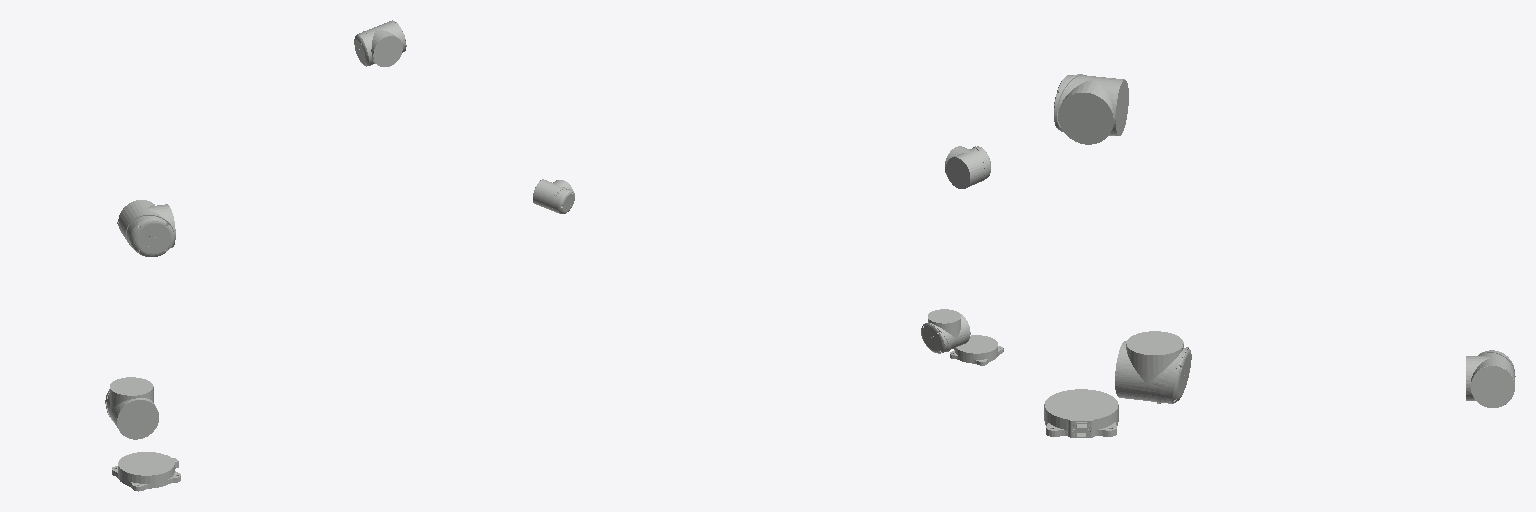
URDF robot description (realll_urdf):
<?xml version="1.0" encoding="utf-8"?>
<!-- This URDF was automatically created by SolidWorks to URDF Exporter! Originally created by [author] ([email redacted]) 
     Commit Version: 1.6.0-4-g7f85cfe  Build Version: 1.6.7995.38578
     For more information, please see http://wiki.ros.org/sw_urdf_exporter -->
<robot
  name="realll_urdf">
  <link
    name="base_link">
    <inertial>
      <origin
        xyz="0.00047472 6.9315E-06 0.018436"
        rpy="0 0 0" />
      <mass
        value="0.70951" />
      <inertia
        ixx="0.0011478"
        ixy="-4.6822E-08"
        ixz="-2.9441E-07"
        iyy="0.0011755"
        iyz="7.868E-08"
        izz="0.0021505" />
    </inertial>
    <visual>
      <origin
        xyz="0 0 0"
        rpy="0 0 0" />
      <geometry>
        <mesh
          filename="package://realll_urdf/meshes/base_link.STL" />
      </geometry>
      <material
        name="">
        <color
          rgba="0.75686 0.76863 0.75294 1" />
      </material>
    </visual>
    <collision>
      <origin
        xyz="0 0 0"
        rpy="0 0 0" />
      <geometry>
        <mesh
          filename="package://realll_urdf/meshes/base_link.STL" />
      </geometry>
    </collision>
  </link>
  <link
    name="Link_1">
    <inertial>
      <origin
        xyz="0.0023542 0.0085726 0.12447"
        rpy="0 0 0" />
      <mass
        value="3.4311" />
      <inertia
        ixx="0.011117"
        ixy="-0.0001688"
        ixz="-0.0002995"
        iyy="0.010549"
        iyz="-0.0010909"
        izz="0.010872" />
    </inertial>
    <visual>
      <origin
        xyz="0 0 0"
        rpy="0 0 0" />
      <geometry>
        <mesh
          filename="package://realll_urdf/meshes/Link_1.STL" />
      </geometry>
      <material
        name="">
        <color
          rgba="0.75686 0.76863 0.75294 1" />
      </material>
    </visual>
    <collision>
      <origin
        xyz="0 0 0"
        rpy="0 0 0" />
      <geometry>
        <mesh
          filename="package://realll_urdf/meshes/Link_1.STL" />
      </geometry>
    </collision>
  </link>
  <joint
    name="Joint_1"
    type="revolute">
    <origin
      xyz="0 0 0"
      rpy="0 0 0" />
    <parent
      link="base_link" />
    <child
      link="Link_1" />
    <axis
      xyz="0 0 1" />
    <limit
      lower="0"
      upper="3.142"
      effort="300"
      velocity="3" />
  </joint>
  <link
    name="Link_2">
    <inertial>
      <origin
        xyz="4.1795E-07 -0.076521 0.14802"
        rpy="0 0 0" />
      <mass
        value="1.5487" />
      <inertia
        ixx="0.002778"
        ixy="-4.2325E-09"
        ixz="2.0685E-08"
        iyy="0.0026285"
        iyz="-0.00038502"
        izz="0.00292" />
    </inertial>
    <visual>
      <origin
        xyz="0 0 0"
        rpy="0 0 0" />
      <geometry>
        <mesh
          filename="package://realll_urdf/meshes/Link_2.STL" />
      </geometry>
      <material
        name="">
        <color
          rgba="0.75686 0.76863 0.75294 1" />
      </material>
    </visual>
    <collision>
      <origin
        xyz="0 0 0"
        rpy="0 0 0" />
      <geometry>
        <mesh
          filename="package://realll_urdf/meshes/Link_2.STL" />
      </geometry>
    </collision>
  </link>
  <joint
    name="Joint_2"
    type="revolute">
    <origin
      xyz="0.00081755 0.002978 0.21171"
      rpy="1.5708 0 2.8737" />
    <parent
      link="Link_1" />
    <child
      link="Link_2" />
    <axis
      xyz="0 0 1" />
    <limit
      lower="-1.57"
      upper="1.57"
      effort="200"
      velocity="3" />
  </joint>
  <link
    name="Link_3">
    <inertial>
      <origin
        xyz="0.0016204 0.00038775 -0.063393"
        rpy="0 0 0" />
      <mass
        value="1.4714" />
      <inertia
        ixx="0.0023471"
        ixy="3.5886E-09"
        ixz="-0.0003313"
        iyy="0.002487"
        iyz="-2.0842E-08"
        izz="0.0027804" />
    </inertial>
    <visual>
      <origin
        xyz="0 0 0"
        rpy="0 0 0" />
      <geometry>
        <mesh
          filename="package://realll_urdf/meshes/Link_3.STL" />
      </geometry>
      <material
        name="">
        <color
          rgba="0.75686 0.76863 0.75294 1" />
      </material>
    </visual>
    <collision>
      <origin
        xyz="0 0 0"
        rpy="0 0 0" />
      <geometry>
        <mesh
          filename="package://realll_urdf/meshes/Link_3.STL" />
      </geometry>
    </collision>
  </link>
  <joint
    name="Joint_3"
    type="revolute">
    <origin
      xyz="-0.013053 0.4998 -0.04121"
      rpy="-3.1416 -0.034793 3.1416" />
    <parent
      link="Link_2" />
    <child
      link="Link_3" />
    <axis
      xyz="0 0 -1" />
    <limit
      lower="-1.57"
      upper="1.57"
      effort="200"
      velocity="3" />
  </joint>
  <link
    name="Link_4">
    <inertial>
      <origin
        xyz="0.038757 0.0032123 -0.16106"
        rpy="0 0 0" />
      <mass
        value="0.83842" />
      <inertia
        ixx="0.0010339"
        ixy="-3.0338E-05"
        ixz="1.6348E-05"
        iyy="0.0009644"
        iyz="0.00012774"
        izz="0.00096895" />
    </inertial>
    <visual>
      <origin
        xyz="0 0 0"
        rpy="0 0 0" />
      <geometry>
        <mesh
          filename="package://realll_urdf/meshes/Link_4.STL" />
      </geometry>
      <material
        name="">
        <color
          rgba="0.75686 0.76863 0.75294 1" />
      </material>
    </visual>
    <collision>
      <origin
        xyz="0 0 0"
        rpy="0 0 0" />
      <geometry>
        <mesh
          filename="package://realll_urdf/meshes/Link_4.STL" />
      </geometry>
    </collision>
  </link>
  <joint
    name="Joint_4"
    type="revolute">
    <origin
      xyz="0.56474 0.000388 -0.0090716"
      rpy="0 0.23313 0" />
    <parent
      link="Link_3" />
    <child
      link="Link_4" />
    <axis
      xyz="-0.23103 0 0.97295" />
    <limit
      lower="-1.57"
      upper="1.57"
      effort="200"
      velocity="3" />
  </joint>
  <link
    name="Link_5">
    <inertial>
      <origin
        xyz="0.0034039 0.00048525 0.16585"
        rpy="0 0 0" />
      <mass
        value="0.83842" />
      <inertia
        ixx="0.00096592"
        ixy="1.045E-05"
        ixz="-0.00012992"
        iyy="0.0010363"
        iyz="1.8899E-05"
        izz="0.00096507" />
    </inertial>
    <visual>
      <origin
        xyz="0 0 0"
        rpy="0 0 0" />
      <geometry>
        <mesh
          filename="package://realll_urdf/meshes/Link_5.STL" />
      </geometry>
      <material
        name="">
        <color
          rgba="0.75686 0.76863 0.75294 1" />
      </material>
    </visual>
    <collision>
      <origin
        xyz="0 0 0"
        rpy="0 0 0" />
      <geometry>
        <mesh
          filename="package://realll_urdf/meshes/Link_5.STL" />
      </geometry>
    </collision>
  </link>
  <joint
    name="Joint_5"
    type="revolute">
    <origin
      xyz="0.039855 -0.05588 -0.16569"
      rpy="-1.5708 0 0" />
    <parent
      link="Link_4" />
    <child
      link="Link_5" />
    <axis
      xyz="0 0 -1" />
    <limit
      lower="-1.57"
      upper="1.57"
      effort="100"
      velocity="2" />
  </joint>
  <link
    name="Link_6">
    <inertial>
      <origin
        xyz="0.00017986 -4.4952E-05 -0.13062"
        rpy="0 0 0" />
      <mass
        value="0.15932" />
      <inertia
        ixx="8.2239E-05"
        ixy="1.0723E-06"
        ixz="8.7279E-08"
        iyy="8.7571E-05"
        iyz="4.5096E-07"
        izz="0.00014976" />
    </inertial>
    <visual>
      <origin
        xyz="0 0 0"
        rpy="0 0 0" />
      <geometry>
        <mesh
          filename="package://realll_urdf/meshes/Link_6.STL" />
      </geometry>
      <material
        name="">
        <color
          rgba="0.75686 0.76863 0.75294 1" />
      </material>
    </visual>
    <collision>
      <origin
        xyz="0 0 0"
        rpy="0 0 0" />
      <geometry>
        <mesh
          filename="package://realll_urdf/meshes/Link_6.STL" />
      </geometry>
    </collision>
  </link>
  <joint
    name="Joint_6"
    type="revolute">
    <origin
      xyz="-0.055073 0.0089909 0.17061"
      rpy="-1.5708 0 1.4264" />
    <parent
      link="Link_5" />
    <child
      link="Link_6" />
    <axis
      xyz="0 0 1" />
    <limit
      lower="0"
      upper="3.142"
      effort="50"
      velocity="2" />
  </joint>
</robot>

--- Render facts (derived) ---
3 views of the same robot in one strip: view 1: azimuth 30°, elevation 25°; view 2: azimuth 150°, elevation 25°; view 3: azimuth 270°, elevation 25° (orthographic).
Robot: realll_urdf — 7 links, 6 joints (6 revolute); root link base_link; default pose: all joints at 0.
Visible links, largest first — view 1: Link_2, Link_3, base_link, Link_5; view 2: Link_2, Link_3, Link_5, base_link; view 3: Link_2, Link_3, base_link, Link_5.
Link boxes in pixels (<box>): Link_2: <box>105,377,158,439</box>; Link_3: <box>117,200,175,256</box>; base_link: <box>112,452,180,491</box>; Link_5: <box>354,20,406,66</box>; Link_2: <box>921,309,970,353</box>; Link_3: <box>945,146,990,188</box>; Link_5: <box>533,179,574,213</box>; base_link: <box>950,335,1003,365</box>; Link_2: <box>1115,331,1191,403</box>; Link_3: <box>1054,74,1128,144</box>; base_link: <box>1044,389,1118,437</box>; Link_5: <box>1466,350,1515,407</box>.
Size in the robot's own frame: 1.33 by 0.9522 by 0.772 metres.
Meshes: 7 distinct files referenced, 4 mesh visuals loaded (4 binary STL); not drawn: 3 (reference not matched to a file when rendering).